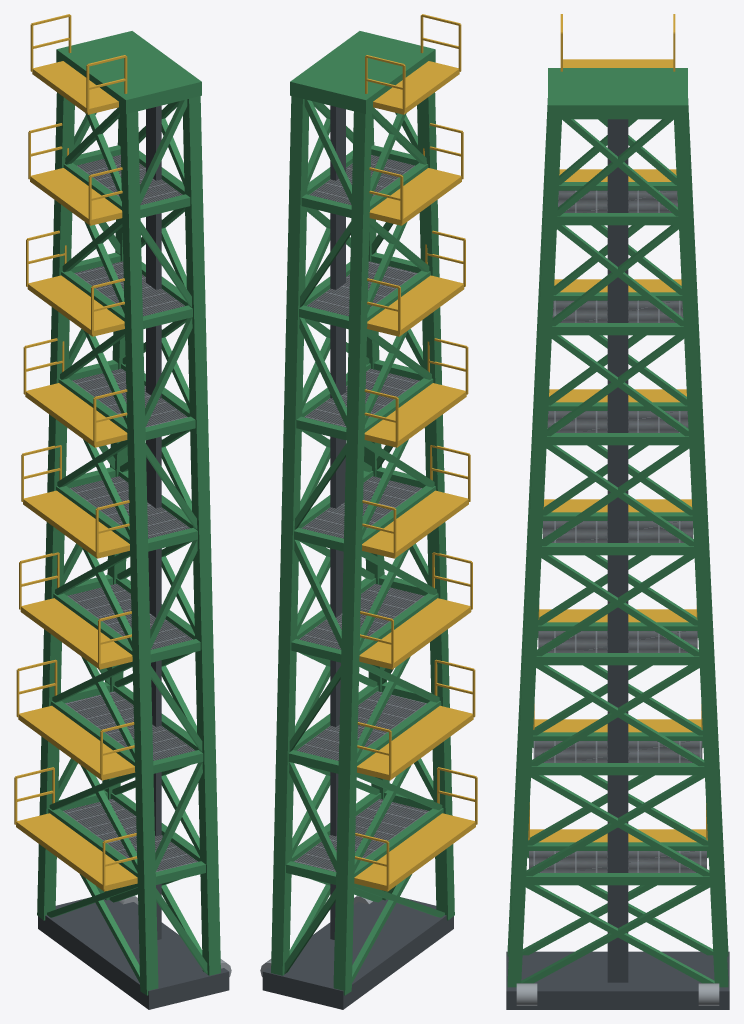
The model's file is soyuz_gantry.glb.
3 renders of one model, left to right at view 1: azimuth 30°, elevation 25°; view 2: azimuth 150°, elevation 25°; view 3: azimuth 270°, elevation 25°, orthographic.
Visible parts, largest first — view 1: body, foot; view 2: body, foot; view 3: body, foot.
Part boxes in pixels (x1,y1,x2,y2): body: [14, 14, 220, 995]; foot: [38, 895, 231, 1009]; body: [271, 14, 477, 995]; foot: [260, 895, 453, 1009]; body: [507, 14, 728, 987]; foot: [506, 951, 729, 1009].
Size of the model in its own units: 2.74 by 19.97 by 4.3.
Materials: 5 (1 with a texture image).
